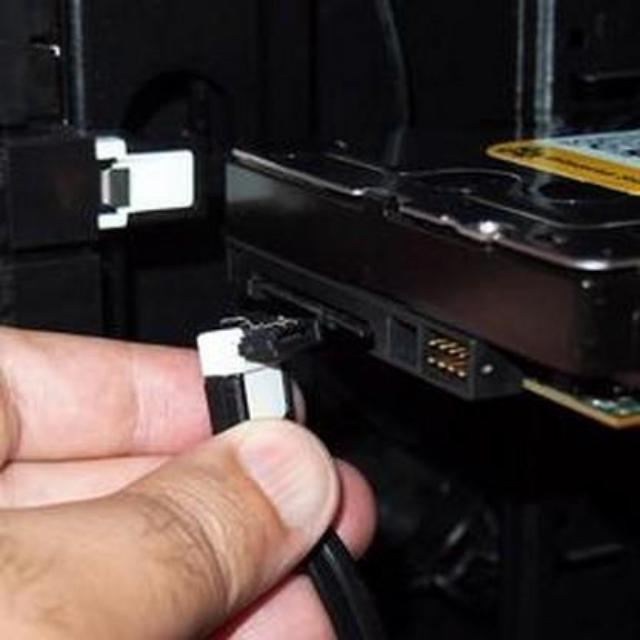DISK: (192, 100, 640, 398)
